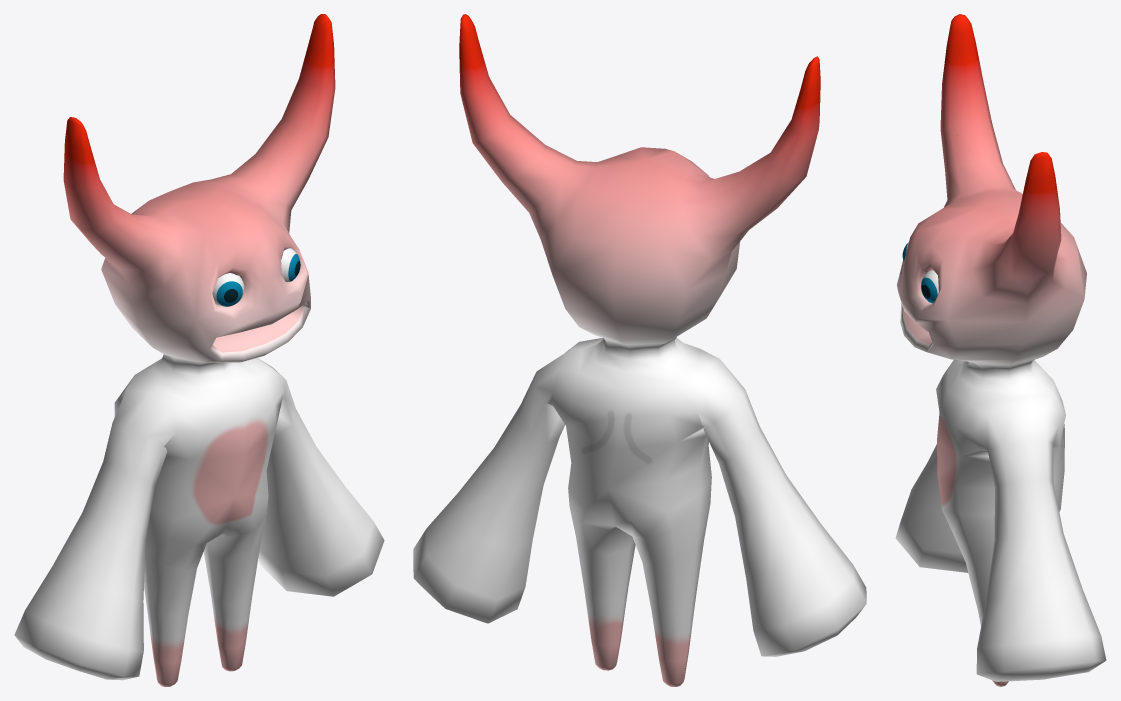
File: frame12.obj
3 views of the same model, side by side, from view 1: azimuth 30°, elevation 25°; view 2: azimuth 150°, elevation 25°; view 3: azimuth 270°, elevation 25° (orthographic). The views are drawn at different scales.
Visible parts, largest first — view 1: Body, Right_Eye; view 2: Body; view 3: Body, Left_Eye.
Part boxes in pixels (bbox=[...]): Body: bbox=[14, 14, 384, 686]; Right_Eye: bbox=[212, 273, 244, 306]; Body: bbox=[413, 14, 866, 686]; Body: bbox=[895, 14, 1106, 686]; Left_Eye: bbox=[921, 270, 938, 303].
Bounding box in the file's own units: 13.41 × 20.77 × 6.76.
